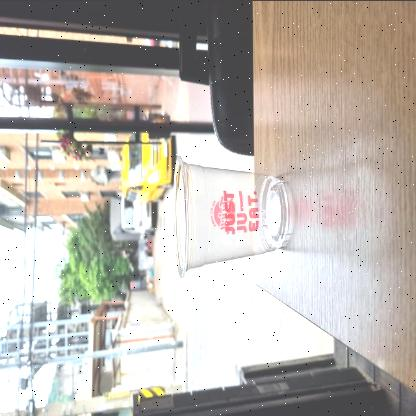Others: (169, 147, 295, 280)
